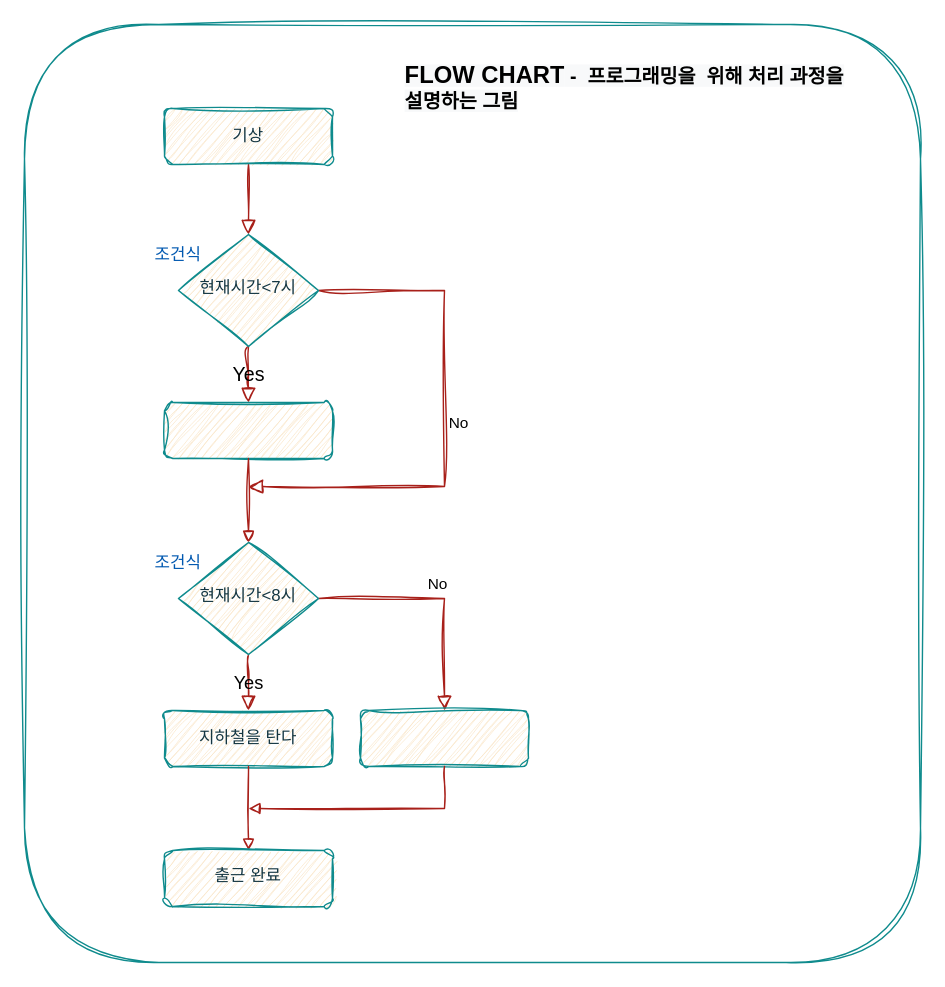
Some shapes in this 945 by 987 pixel diagram are drawn without their labels. The shapes that lost their labels are listed below. From the top down, each one's centre as x and y in pixels, then its label:
At point 247,429: "아침 식사를 한다.".
At point 443,737: "택시를 탄다".
